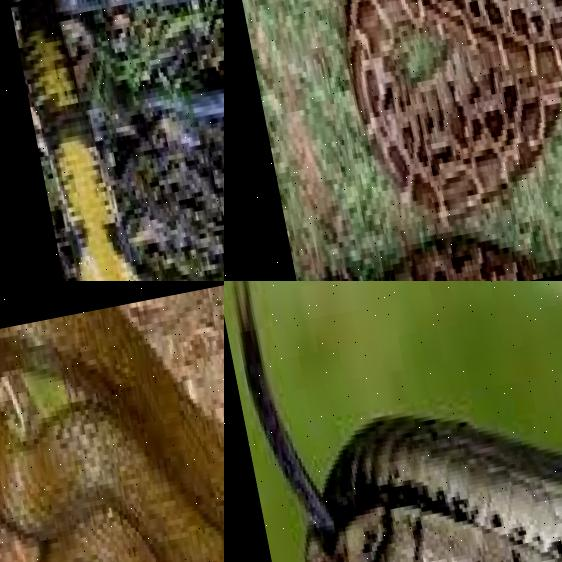snake: (225, 0, 562, 281), (267, 305, 562, 562), (0, 0, 224, 281), (0, 281, 224, 562)
